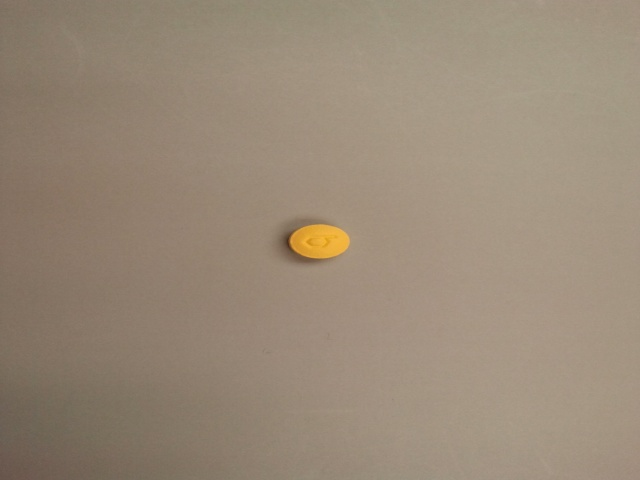b: (303, 231, 338, 250)
